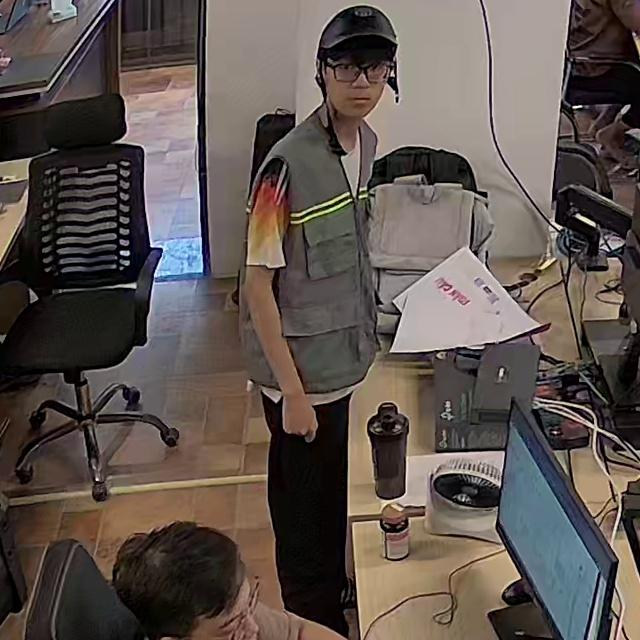helmet: (313, 3, 399, 74)
no_helmet: (109, 518, 254, 638)
none: (195, 602, 310, 640)
vest: (245, 111, 382, 393)
